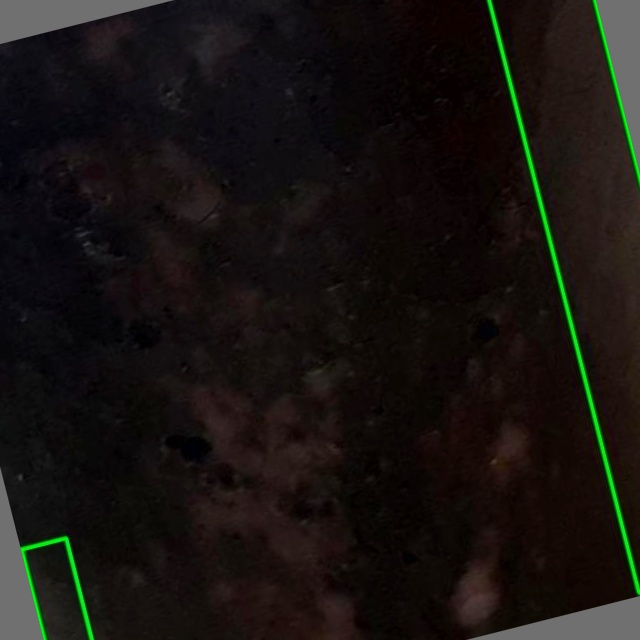Contact Dermatitis: (489, 0, 639, 592)
